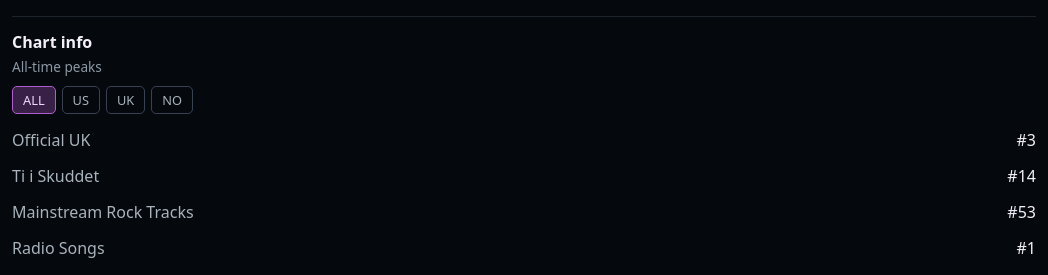
Scenario: TrackChartInfo › shows full names and peaks and filters each country without reloading
The image size is (1048, 275).
expect the text "Mainstream Rock Tracks" is shown: met, box [12, 201, 194, 223]
expect the text "#53" is shown: met, box [1007, 201, 1036, 223]
Click the button "US".
click(81, 100)  # box [62, 86, 100, 114]
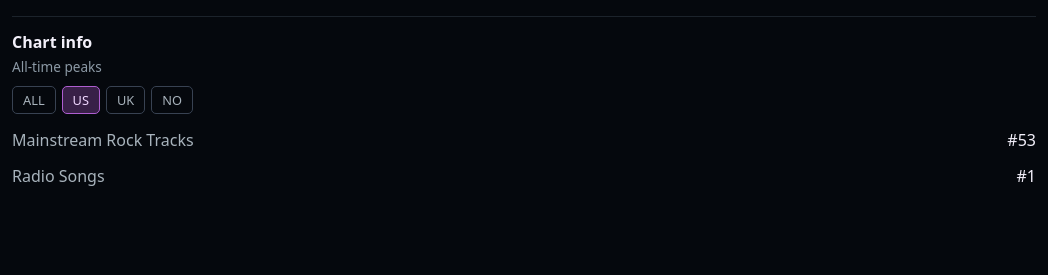
expect the text "Radio Songs" is shown: met, box [12, 165, 105, 187]
expect the text "Official UK" is gone: met
Click the button "UK".
click(126, 100)  # box [106, 86, 145, 114]
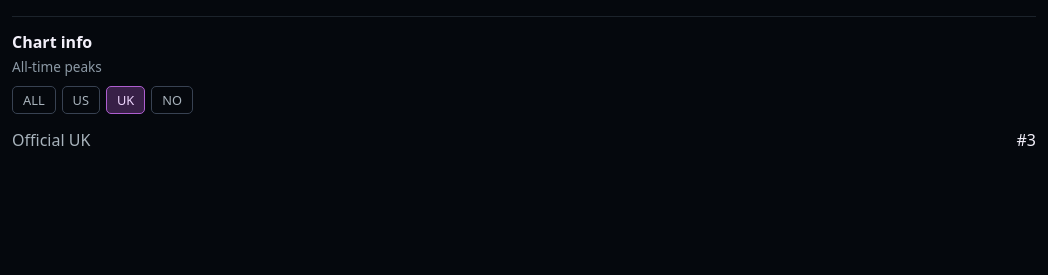
expect the text "Official UK" is shown: met, box [12, 129, 90, 151]
expect the text "Radio Songs" is gone: met
Click the button "NO".
click(172, 100)  # box [151, 86, 193, 114]
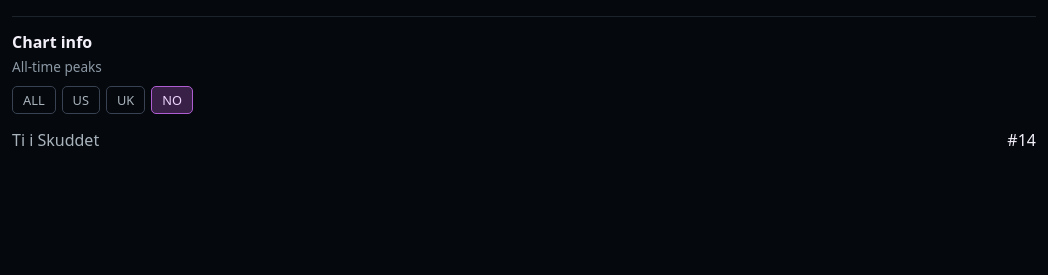
expect the text "Ti i Skuddet" is shown: met, box [12, 129, 99, 151]
expect the text "Official UK" is gone: met
Click the button "ALL".
click(34, 100)  # box [12, 86, 56, 114]
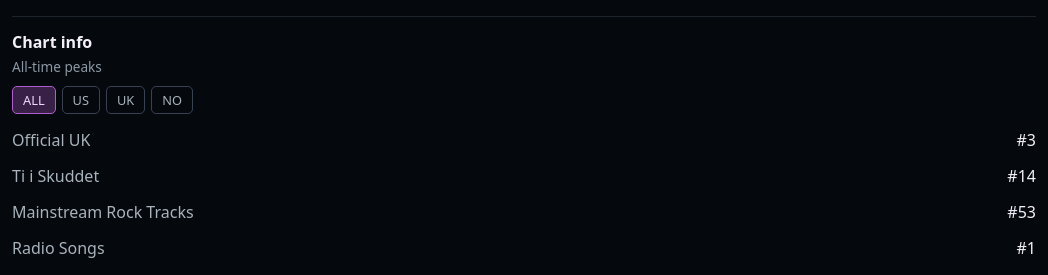
expect the text "Official UK" is shown: met, box [12, 129, 90, 151]
